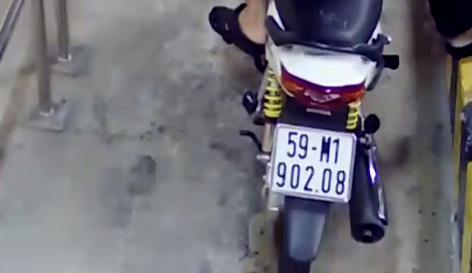lisence: (270, 122, 356, 205)
